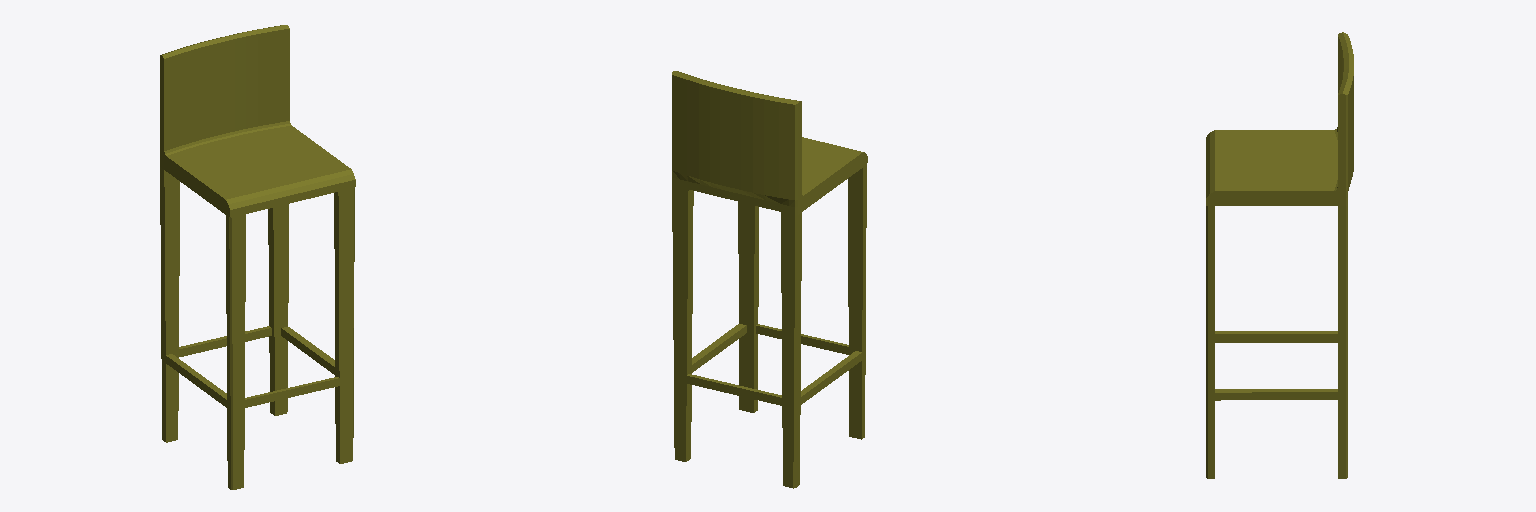
File: chaise_chill_jaunatre.obj
3 views of the same model, side by side, from view 1: azimuth 30°, elevation 25°; view 2: azimuth 150°, elevation 25°; view 3: azimuth 270°, elevation 25° (orthographic).
Visible parts, largest first — view 1: pCube2; view 2: pCube2; view 3: pCube2.
Part boxes in pixels (left/top/right/bottom): pCube2: left=160, top=25, right=355, bottom=489; pCube2: left=672, top=71, right=867, bottom=488; pCube2: left=1206, top=32, right=1353, bottom=478.
Size of the model in its own units: 11.58 by 34.04 by 11.81.